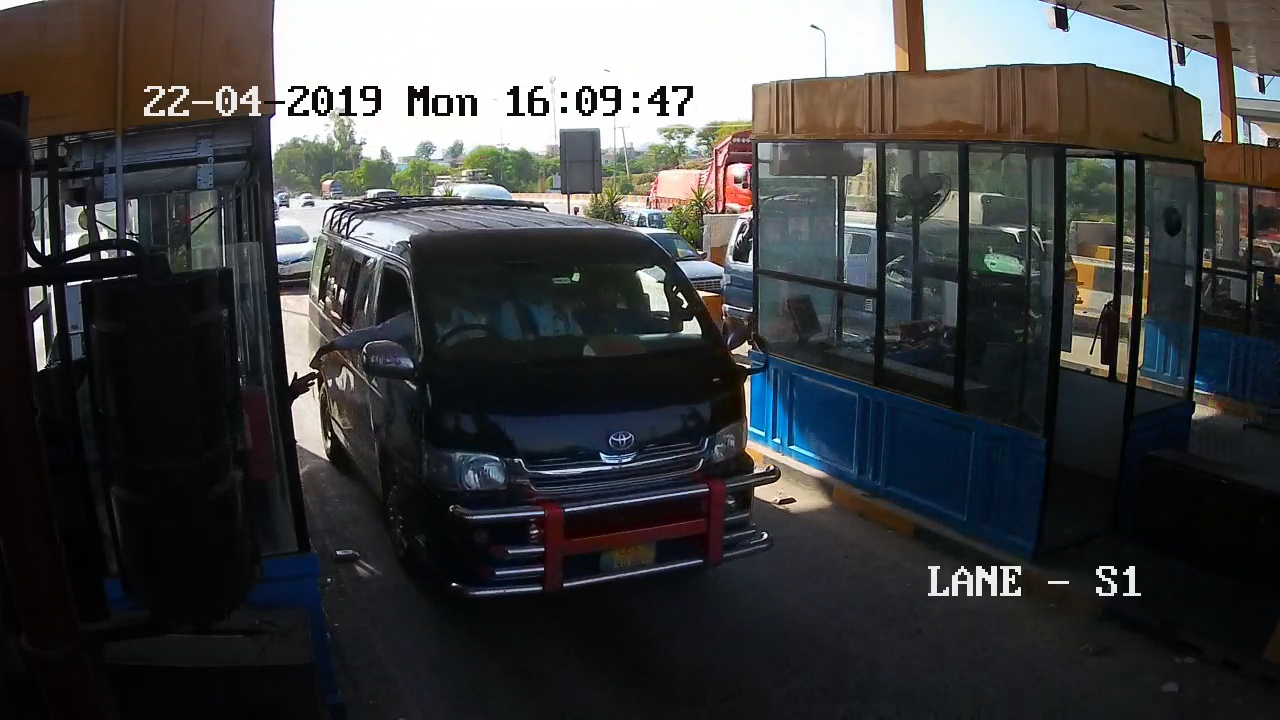Number Plate (Car): (599, 544, 657, 569)
